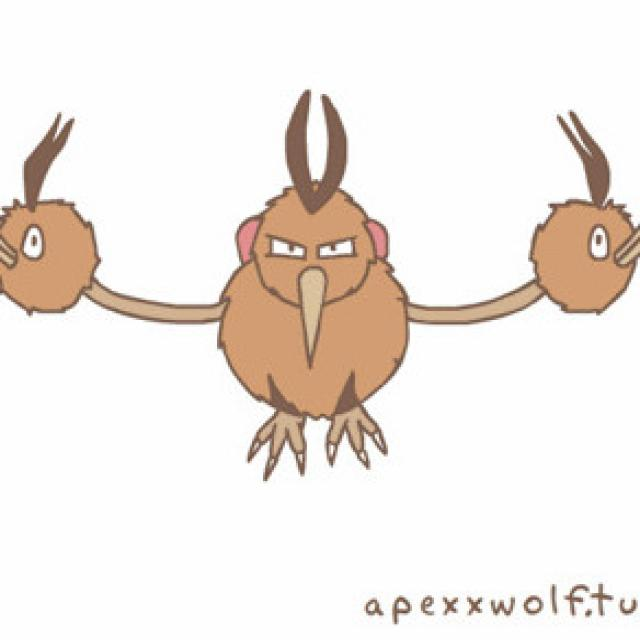Dodrio: (0, 99, 640, 469)
